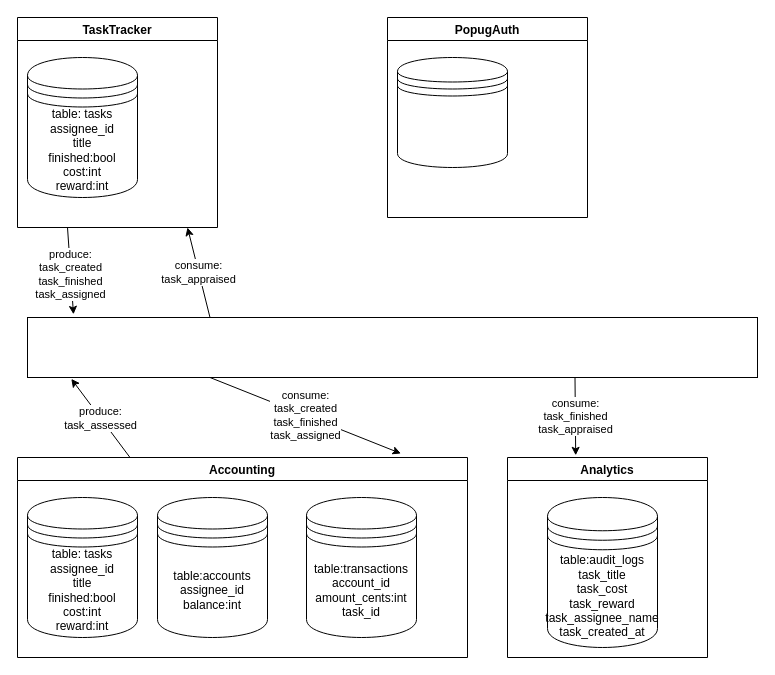
This 775x675 diagram has some shape labels left out. Each missing label, with the centre of its shape:
"Event bus (kafka)" belongs at (392,347).
"table:users name id" belongs at (452,112).
